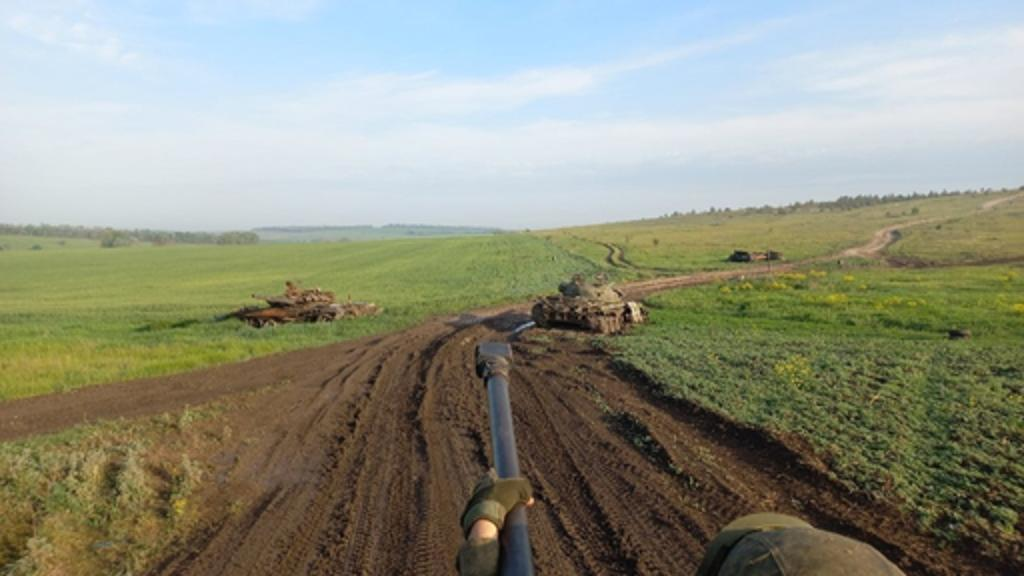APC-IFV: (722, 238, 788, 270)
TANK: (520, 258, 646, 344), (216, 272, 368, 332)
